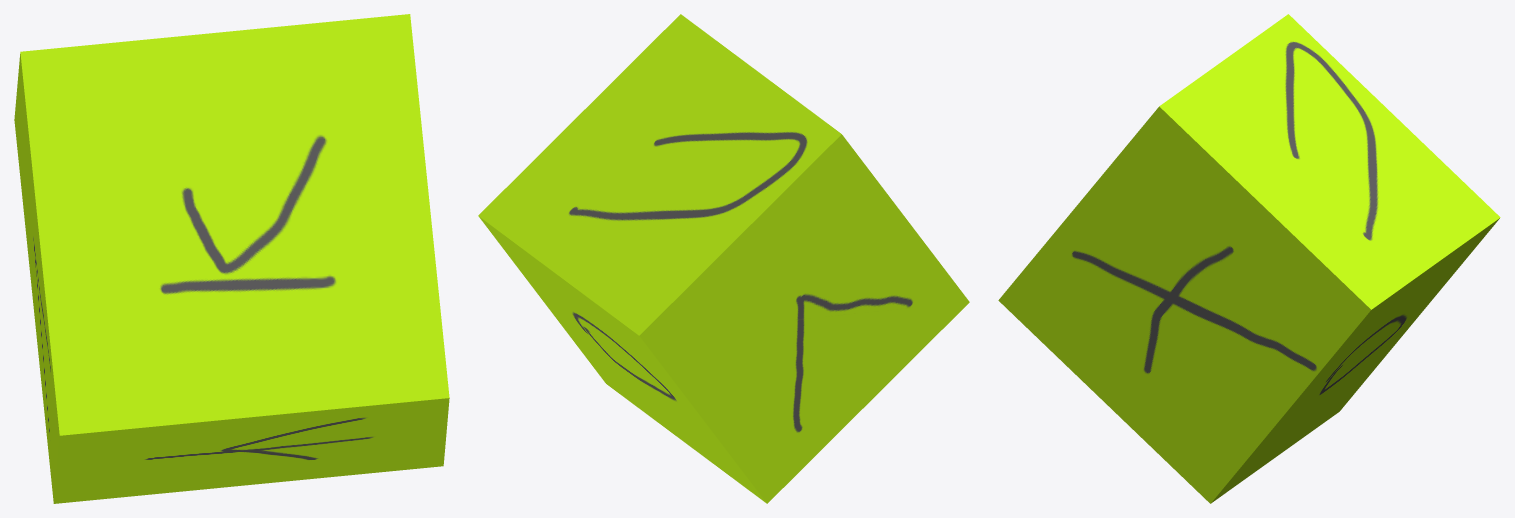
3 renders of one model, left to right at view 1: azimuth 30°, elevation 25°; view 2: azimuth 150°, elevation 25°; view 3: azimuth 270°, elevation 25°, orthographic. The views are drawn at different scales.
Visible parts, largest first — view 1: root; view 2: root; view 3: root.
Boxes of the visible parts, x1,y1,x2,y2 form: root: (14, 14, 449, 503); root: (478, 14, 969, 503); root: (998, 14, 1500, 503).
Size of the model in its own units: 0.2981 by 0.2926 by 0.3394.
Materials: 1 (1 with a texture image).
